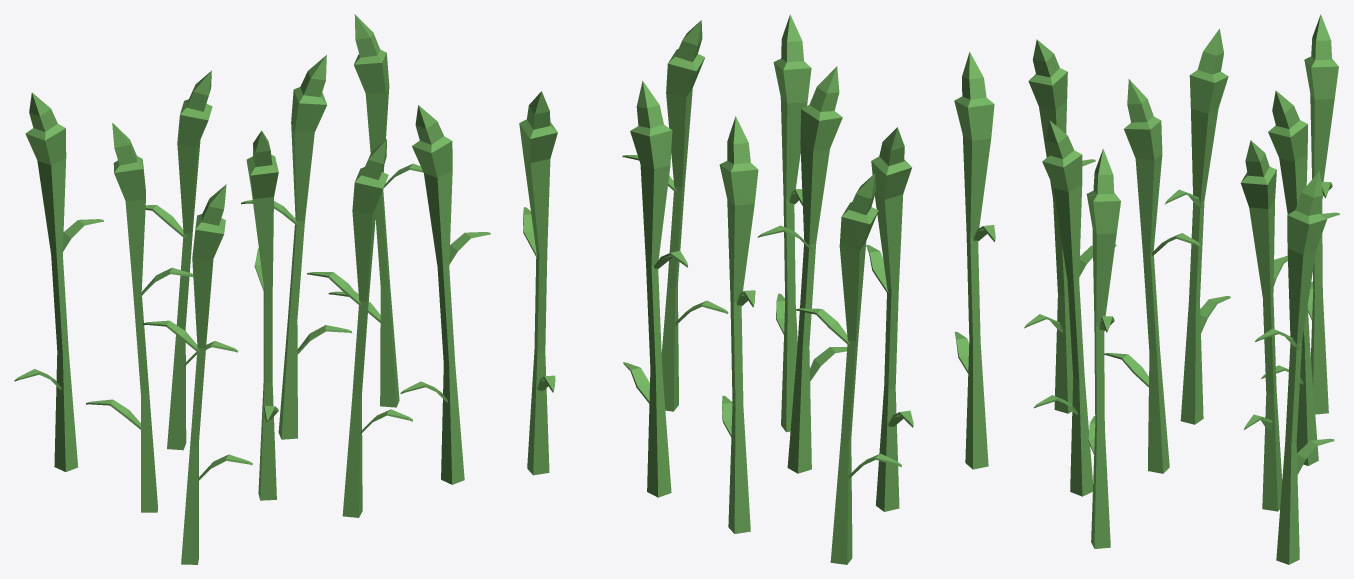
The model's file is Wheat_2-optimized.glb.
3 renders of one model, left to right at view 1: azimuth 30°, elevation 25°; view 2: azimuth 150°, elevation 25°; view 3: azimuth 270°, elevation 25°, orthographic. The views are drawn at different scales.
Parts seen in each view (by area): view 1: Wheat_2.004, Wheat_2.007, Wheat_2.003, Wheat_2.005, Wheat_2.001, Wheat_2.002, Wheat_2.006, Wheat_2.008, Wheat_2; view 2: Wheat_2.003, Wheat_2, Wheat_2.006, Wheat_2.002, Wheat_2.001, Wheat_2.007, Wheat_2.008, Wheat_2.005, Wheat_2.004; view 3: Wheat_2.008, Wheat_2, Wheat_2.001, Wheat_2.005, Wheat_2.004, Wheat_2.003, Wheat_2.007, Wheat_2.006, Wheat_2.002.
Boxes of the visible parts, x1,y1,x2,y2 form: Wheat_2.004: (400, 105, 490, 484); Wheat_2.007: (14, 92, 103, 471); Wheat_2.003: (241, 55, 351, 439); Wheat_2.005: (307, 139, 412, 517); Wheat_2.001: (86, 123, 193, 512); Wheat_2.002: (145, 70, 237, 450); Wheat_2.006: (143, 184, 252, 564); Wheat_2.008: (328, 14, 423, 407); Wheat_2: (246, 130, 278, 500); Wheat_2.003: (623, 81, 687, 497); Wheat_2: (757, 66, 847, 473); Wheat_2.006: (954, 52, 995, 469); Wheat_2.002: (719, 116, 758, 533); Wheat_2.001: (866, 127, 913, 511); Wheat_2.007: (795, 173, 901, 564); Wheat_2.008: (519, 91, 557, 475); Wheat_2.005: (773, 14, 811, 432); Wheat_2.004: (622, 20, 728, 411); Wheat_2.008: (1255, 171, 1334, 564); Wheat_2: (1104, 79, 1200, 473); Wheat_2.001: (1165, 29, 1230, 424); Wheat_2.005: (1034, 120, 1116, 496); Wheat_2.004: (1086, 149, 1120, 548); Wheat_2.003: (1240, 140, 1287, 511); Wheat_2.007: (1304, 14, 1338, 414); Wheat_2.006: (1024, 39, 1095, 413); Wheat_2.002: (1261, 90, 1339, 465).
Bounding box in the file's own units: 0.5791 × 0.5389 × 0.4056.
